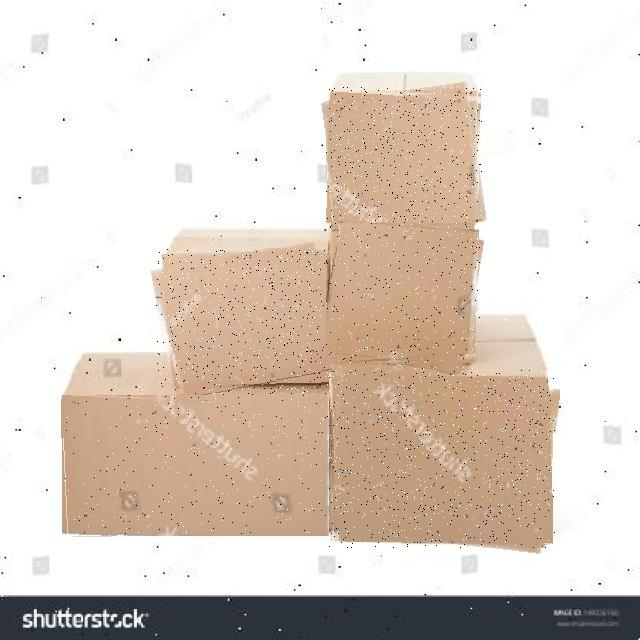BoxFace: (330, 370, 556, 548), (61, 394, 331, 536), (156, 248, 332, 394), (326, 86, 482, 237), (326, 223, 480, 369)
